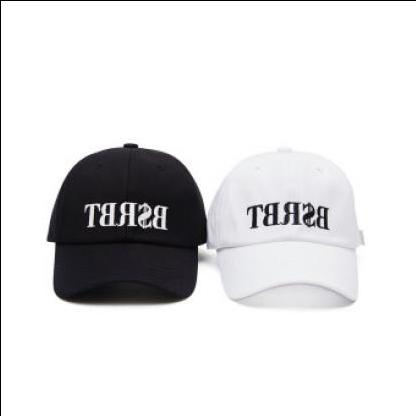cap: (40, 138, 214, 306)
